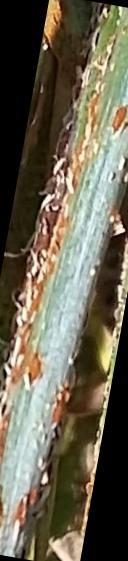Wheat: (4, 287, 66, 463), (23, 136, 86, 292)
